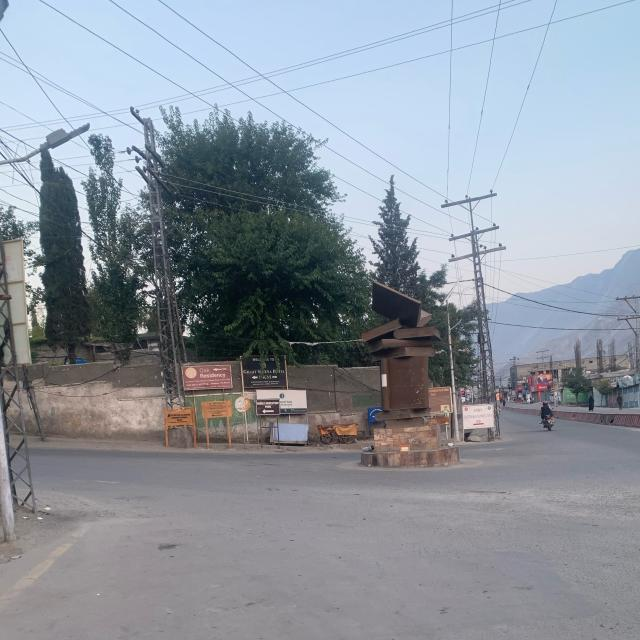Left-Turn: (38, 443, 400, 578)
straight: (504, 412, 640, 590)
